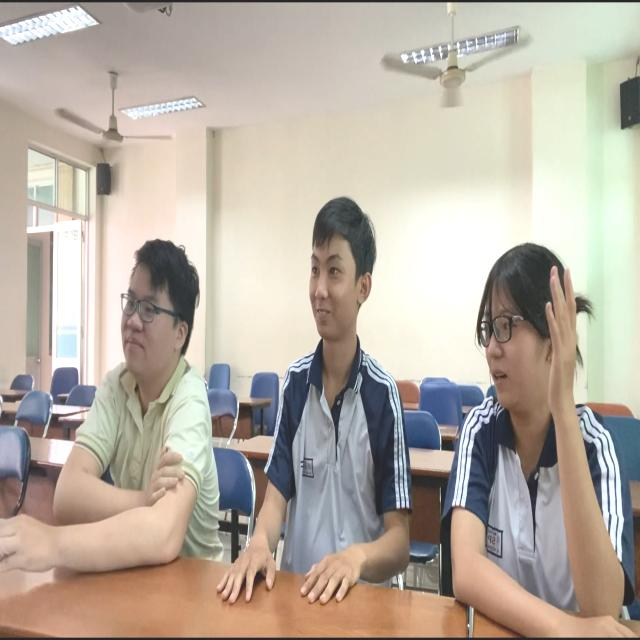raise_hand: (447, 231, 640, 640)
